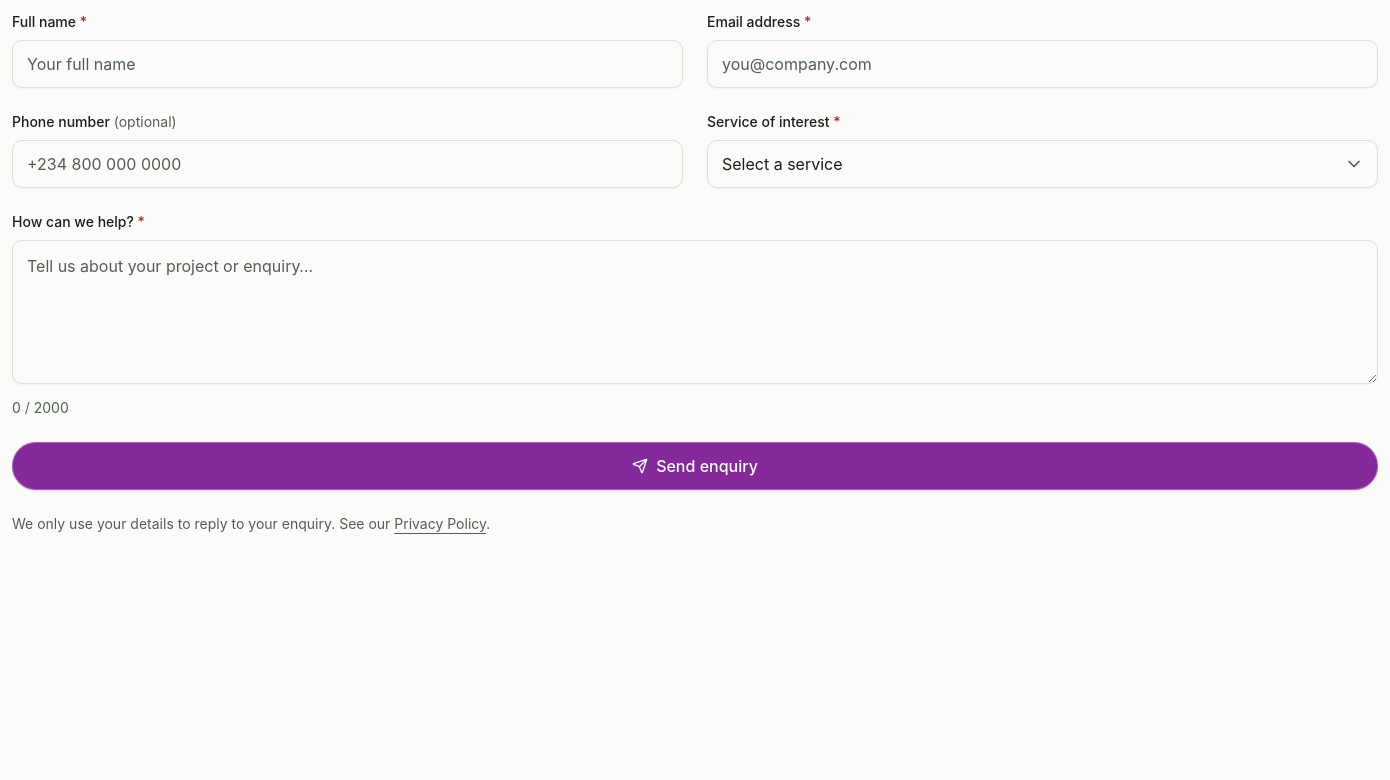
EnquiryForm: validation › clears a field error as soon as the visitor edits it
Click the button "Send enquiry".
click(695, 466)  # box [12, 442, 1378, 490]
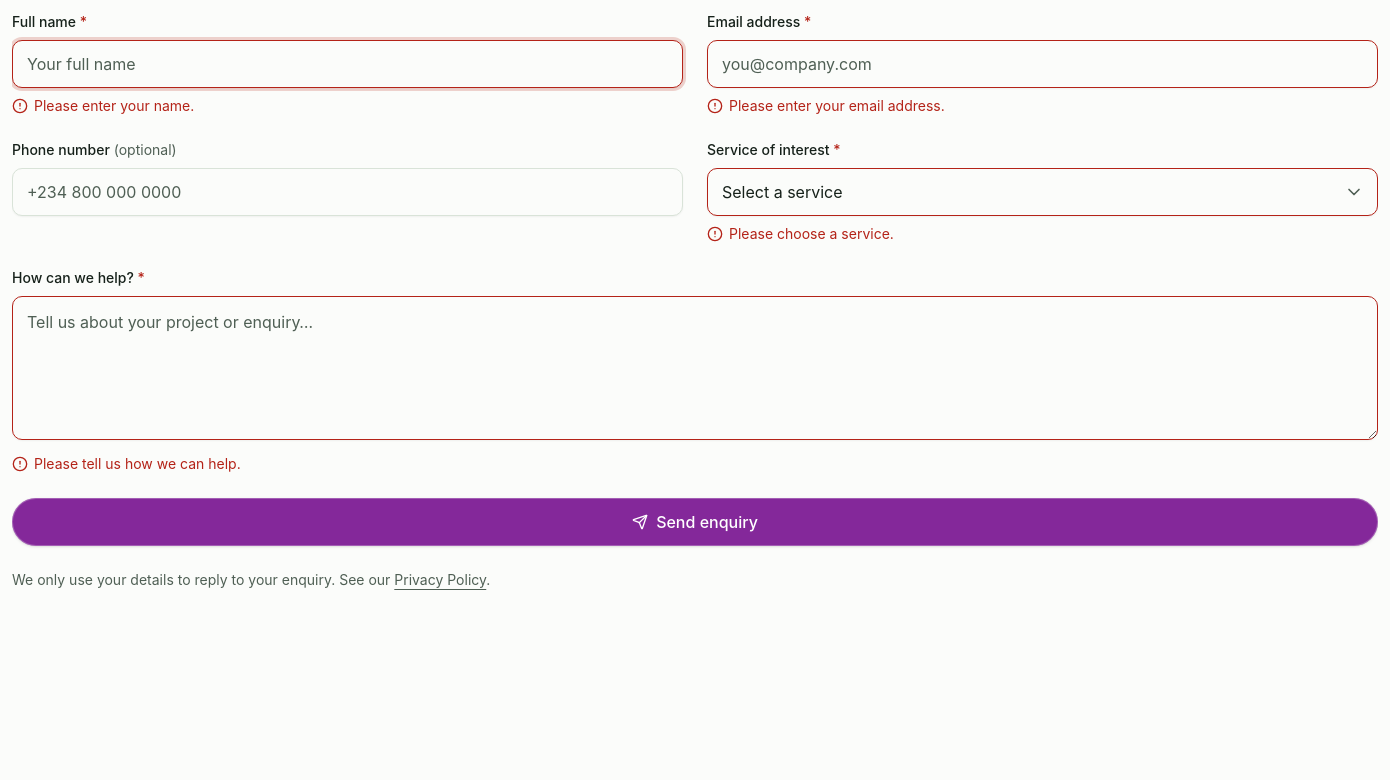
Type "Ada" into the field labelled "Full name *".
click(348, 64); type("Ada")  # box [12, 40, 683, 88]
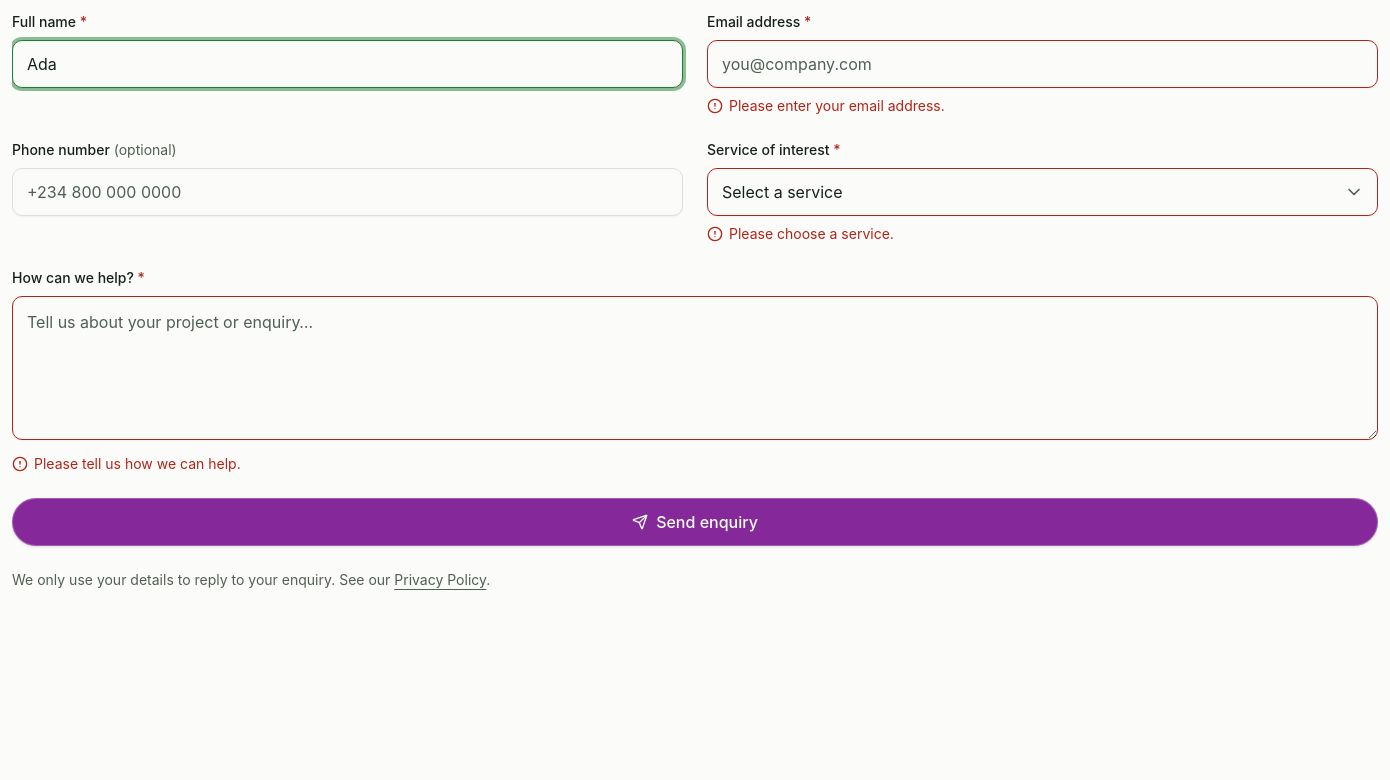
Expected: the text "Please enter your name" is gone
